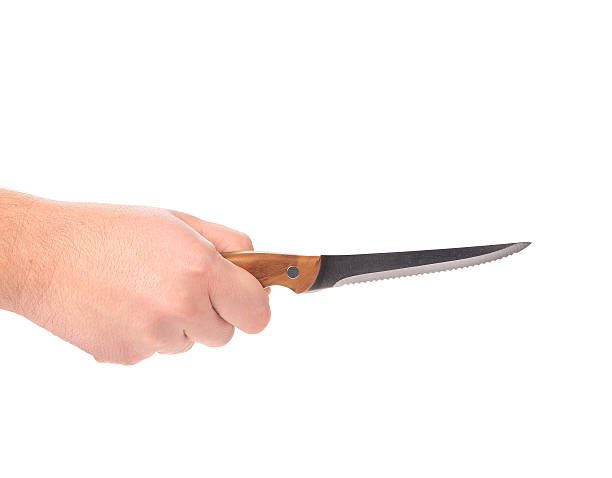knife: (218, 240, 536, 295)
